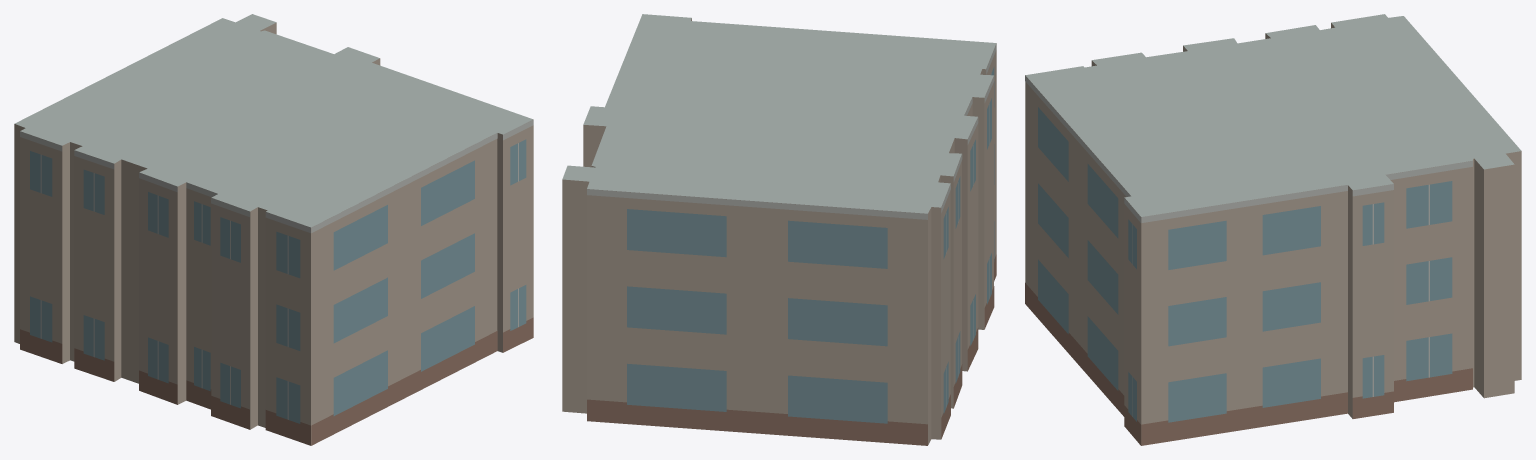
The model's file is survey-upis-32837367.glb.
3 renders of one model, left to right at view 1: azimuth 30°, elevation 25°; view 2: azimuth 150°, elevation 25°; view 3: azimuth 270°, elevation 25°, orthographic. The views are drawn at different scales.
Parts seen in each view (by area): view 1: survey-upis-32837367.tmp; view 2: survey-upis-32837367.tmp; view 3: survey-upis-32837367.tmp.
Part boxes in pixels (x1,y1,x2,y2): survey-upis-32837367.tmp: (14,14,533,445); survey-upis-32837367.tmp: (562,14,996,445); survey-upis-32837367.tmp: (1025,14,1521,445).
Bounding box in the file's own units: 17.43 × 9.15 × 18.01.
